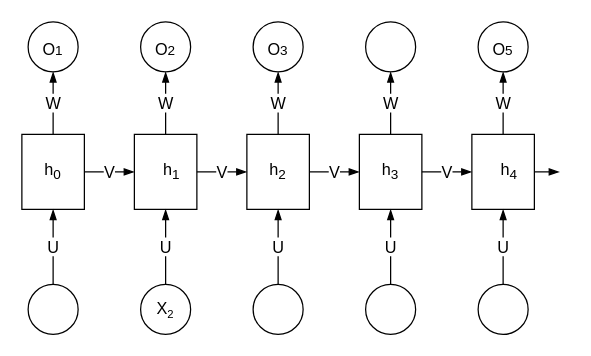
Some shapes in this 591 by 356 pixel diagram are drawn without their labels. Each missing label, with the centre of its shape:
O 4: [390,46]
X 1: [52,308]
X 3: [277,308]
X 4: [390,308]
X 5: [502,308]
